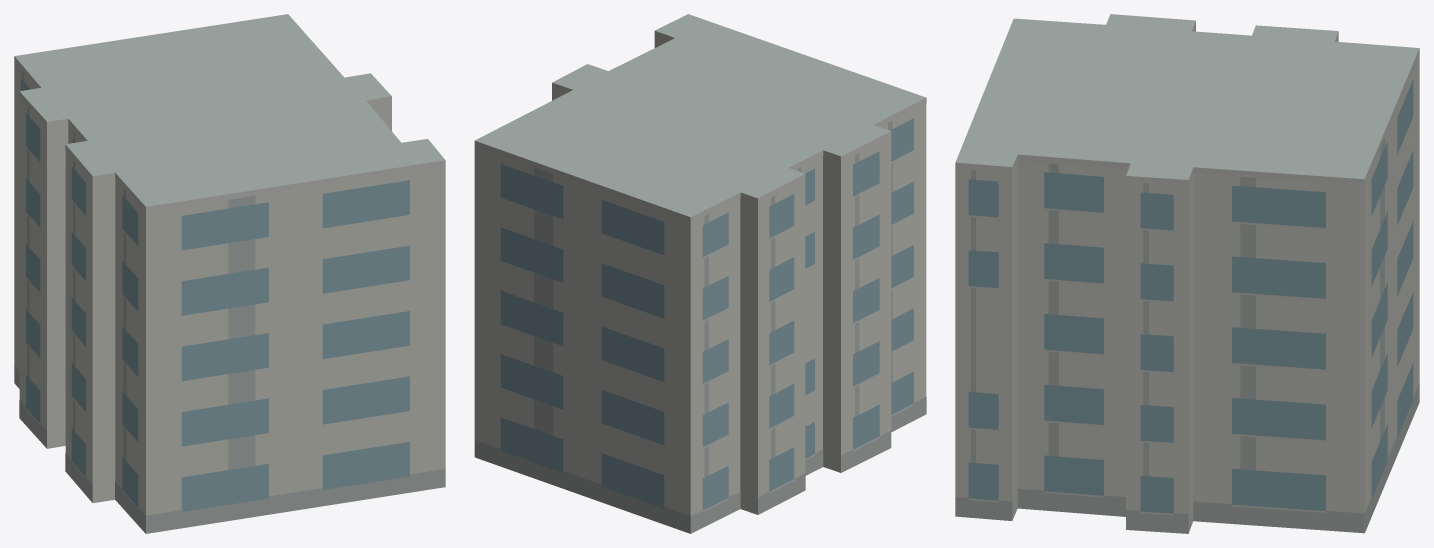
Rendered from survey-upis-32804852.glb.
3 renders of one model, left to right at view 1: azimuth 30°, elevation 25°; view 2: azimuth 150°, elevation 25°; view 3: azimuth 270°, elevation 25°, orthographic. The views are drawn at different scales.
Visible parts, largest first — view 1: survey-upis-32804852.tmp; view 2: survey-upis-32804852.tmp; view 3: survey-upis-32804852.tmp.
Boxes of the visible parts, x1,y1,x2,y2 form: survey-upis-32804852.tmp: (14, 14, 445, 533); survey-upis-32804852.tmp: (474, 14, 926, 533); survey-upis-32804852.tmp: (955, 14, 1419, 533).
Size of the model in its own units: 13.68 by 13.6 by 16.18.
